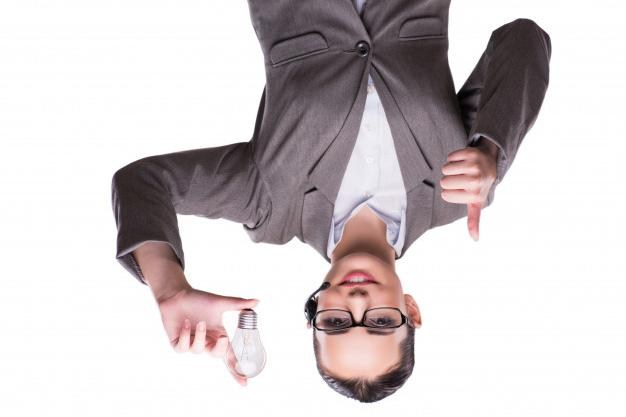thumbsdown: (439, 148, 482, 241)
